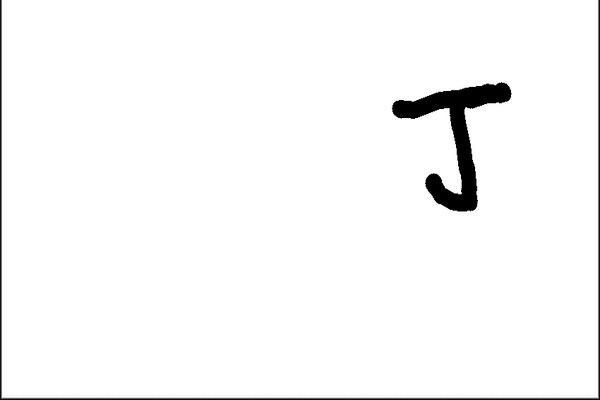J: (382, 76, 521, 218)
